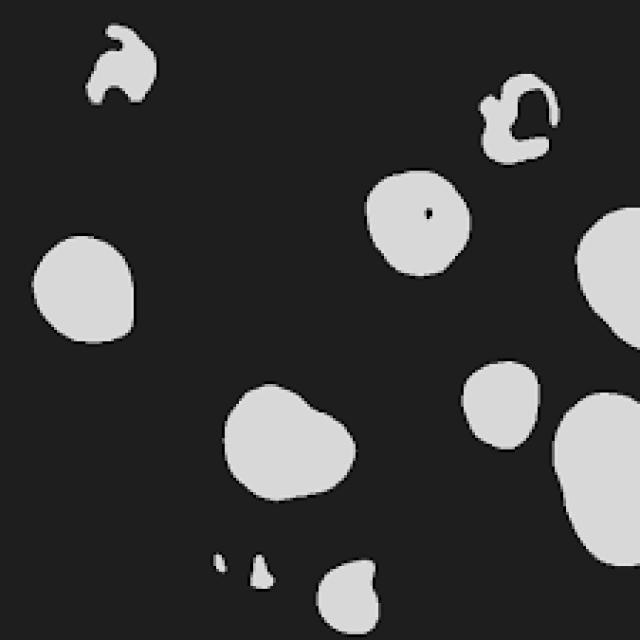cell: (224, 383, 360, 499), (554, 392, 638, 566), (364, 170, 469, 275), (39, 241, 131, 336), (577, 206, 637, 334), (465, 359, 538, 448), (323, 557, 379, 633)
